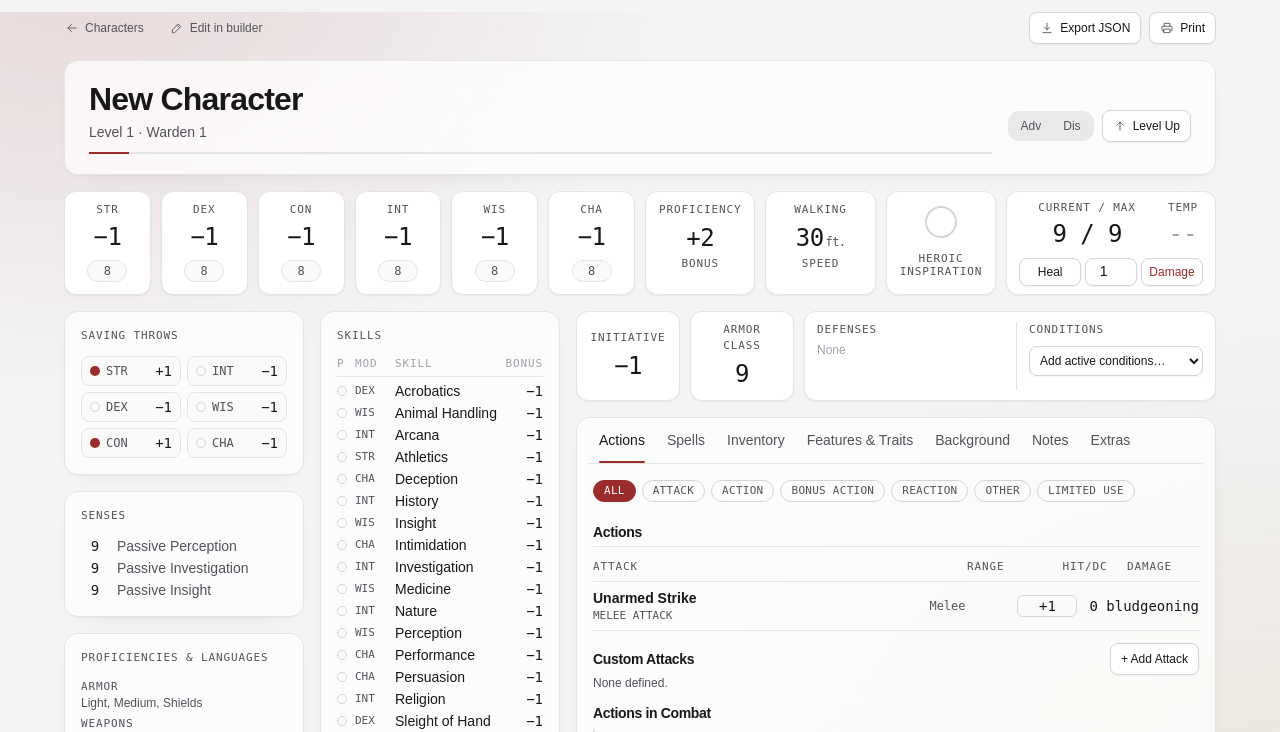
Test case: FullSheet interactivity › offers no spell adding to a non-caster
This screenshot has width=1280, height=732.
Click the button "Spells" at [686, 442], box x1=657 y1=422 x2=715 y2=463
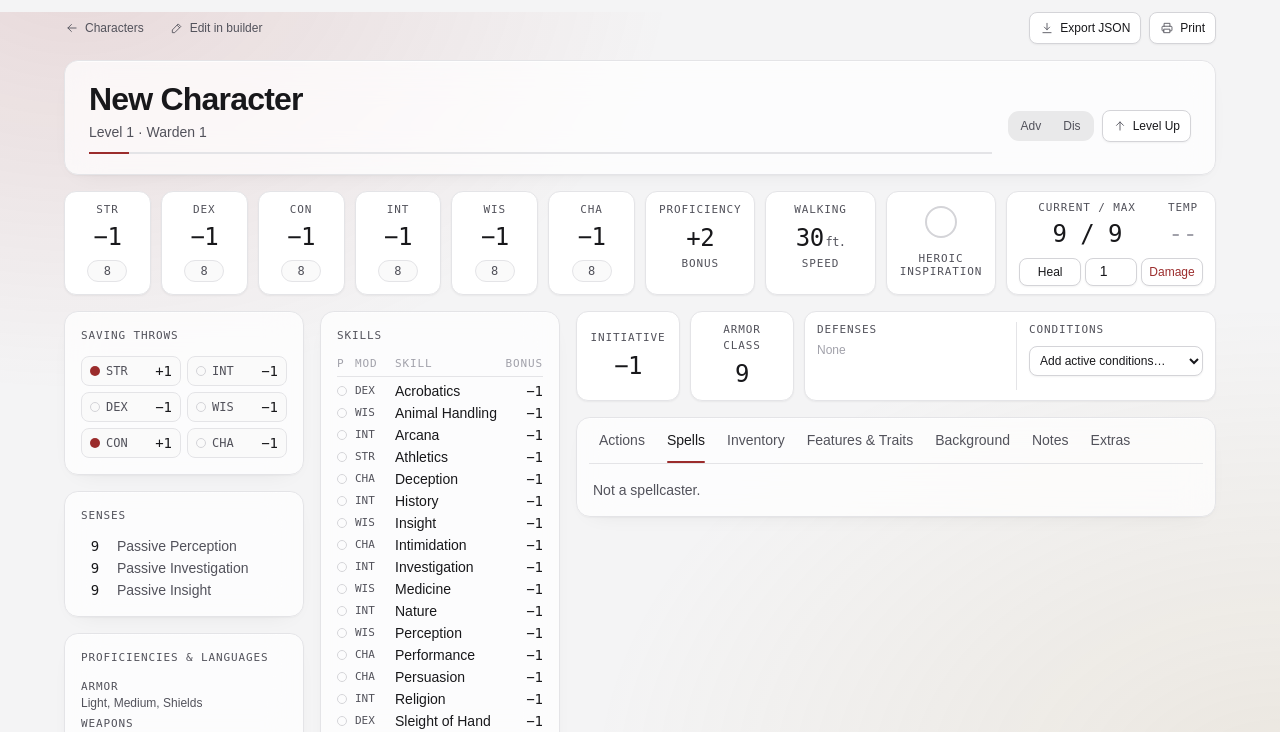
Now the text "Not a spellcaster." is shown, box x1=593 y1=480 x2=700 y2=500
